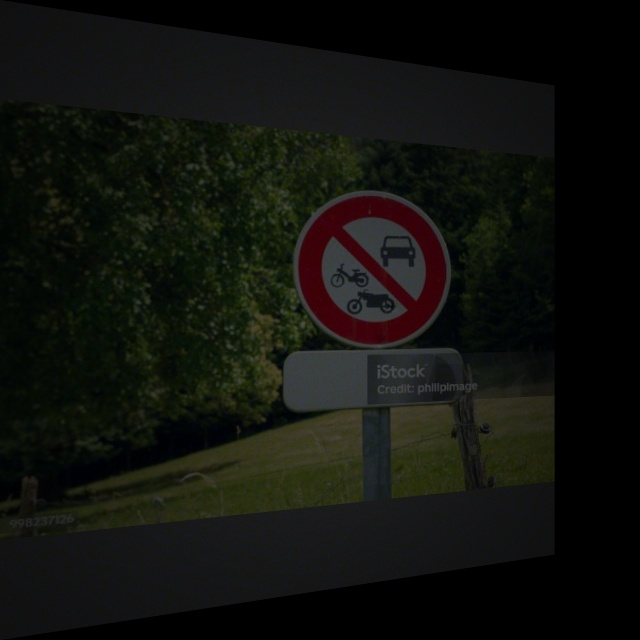All_Motor_Vehicles_Prohibited: (293, 183, 447, 349)
